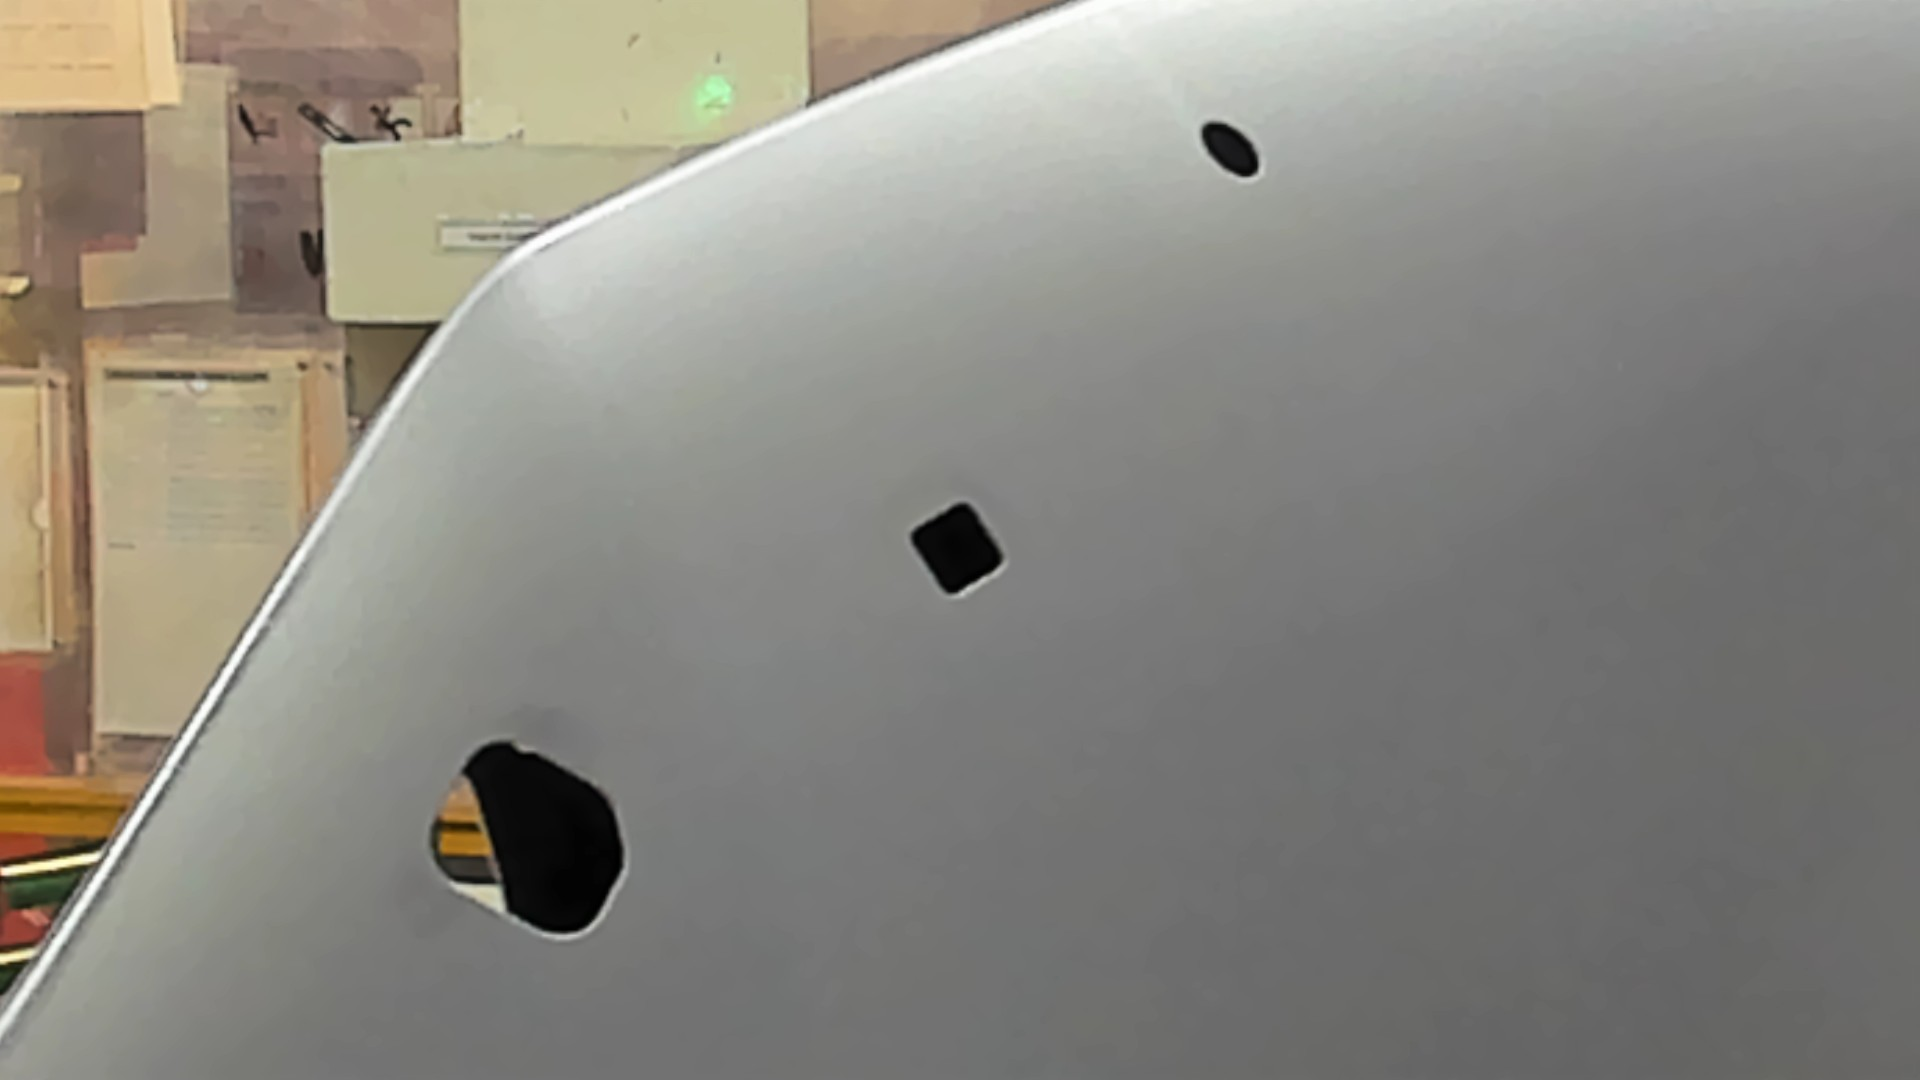chico: (1184, 105, 1280, 190)
grande: (392, 724, 650, 968)
mediano: (887, 483, 1033, 624)
